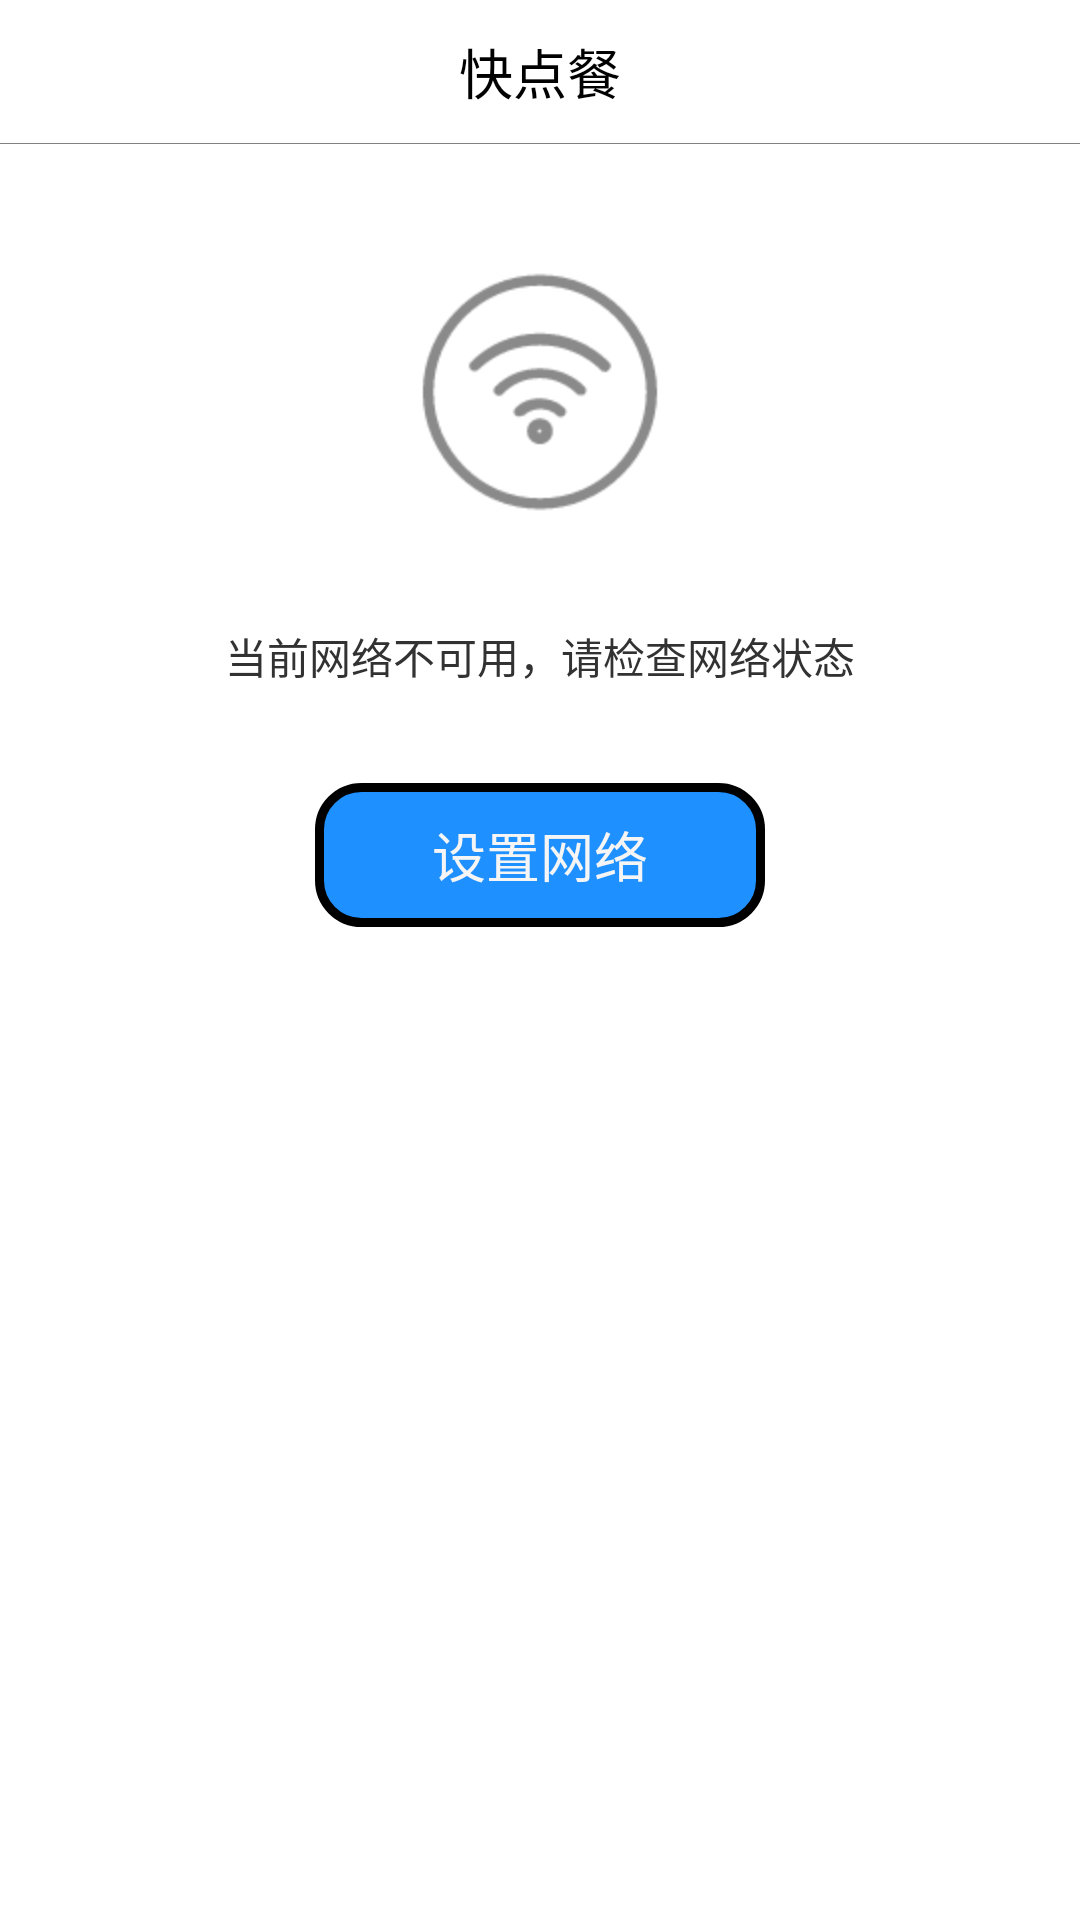

Icon bounding boxes for this 1080x1920 phone screenshot, format (x1, y1, x2, y2):
wifi: (422, 274, 658, 510)
